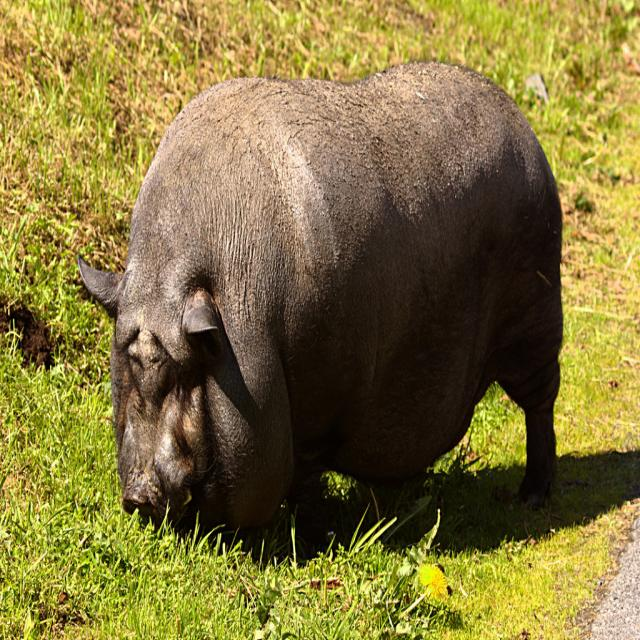Pig: (78, 57, 563, 540)
